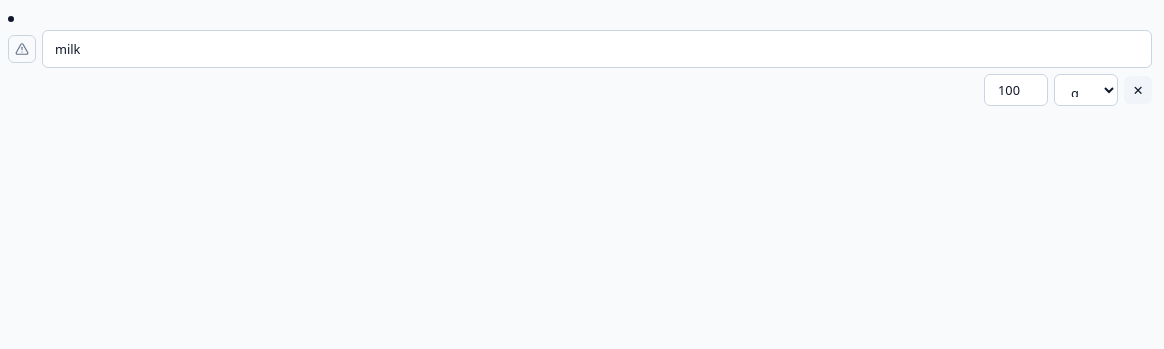
IngredientRow 2-row layout (T18 — narrow 30%-column fit) › allergen icon button opens a popover listing available allergens; picking one queues the confirmation modal
# Click the icon button → popover opens.
Click the button with test id "ingredient-allergen-button-0". click: x=22, y=49
box: [8,35,36,63]
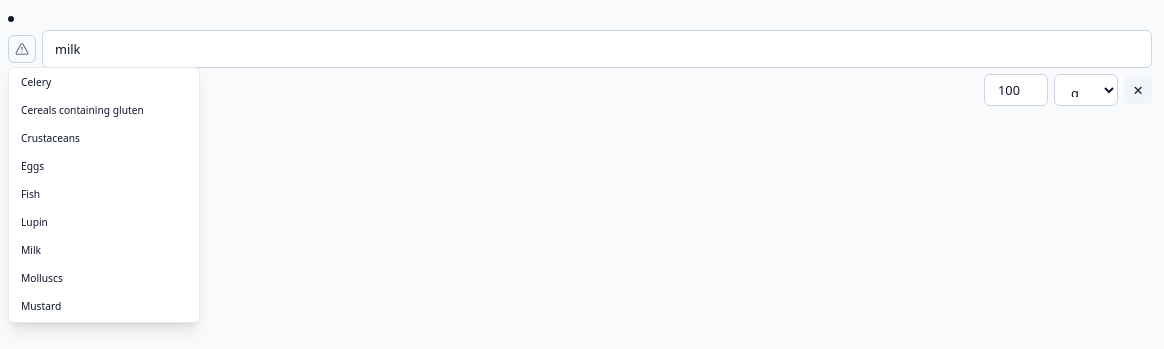
Expected: the list named "Allergens" is shown, [8,67,200,323]
Expected: the button "Celery" is shown, [9,68,199,96]
